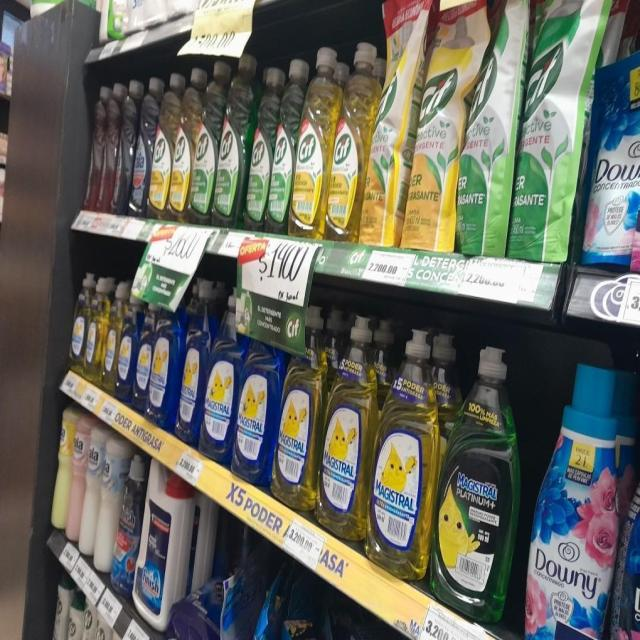ala_conc_azul: (132, 76, 152, 218)
ala_crem_blanco: (96, 428, 115, 578), (81, 419, 98, 563)
cif_conc_bot_amarilla: (327, 39, 365, 243), (294, 43, 328, 240), (172, 67, 192, 223), (151, 74, 172, 220)
cif_conc_botella_verde: (215, 58, 247, 228), (266, 61, 294, 235), (247, 62, 273, 232), (191, 62, 216, 226)
cif_conc_sachet_amarillo: (406, 3, 457, 254), (364, 41, 403, 246)
cif_conc_sachet_verde: (458, 3, 511, 257)
magistral_con_amarillo: (372, 323, 434, 580), (320, 311, 370, 540), (276, 303, 318, 511), (85, 276, 104, 385), (68, 274, 86, 378), (103, 281, 118, 397)
magistral_con_azul: (236, 339, 275, 486), (203, 290, 236, 463), (263, 559, 329, 640), (179, 280, 204, 444), (113, 452, 140, 600), (151, 303, 177, 430), (624, 473, 640, 639), (117, 292, 135, 406), (135, 303, 151, 416)
